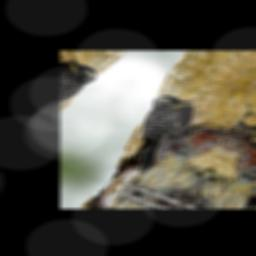Woodpecker: (103, 90, 214, 179)
